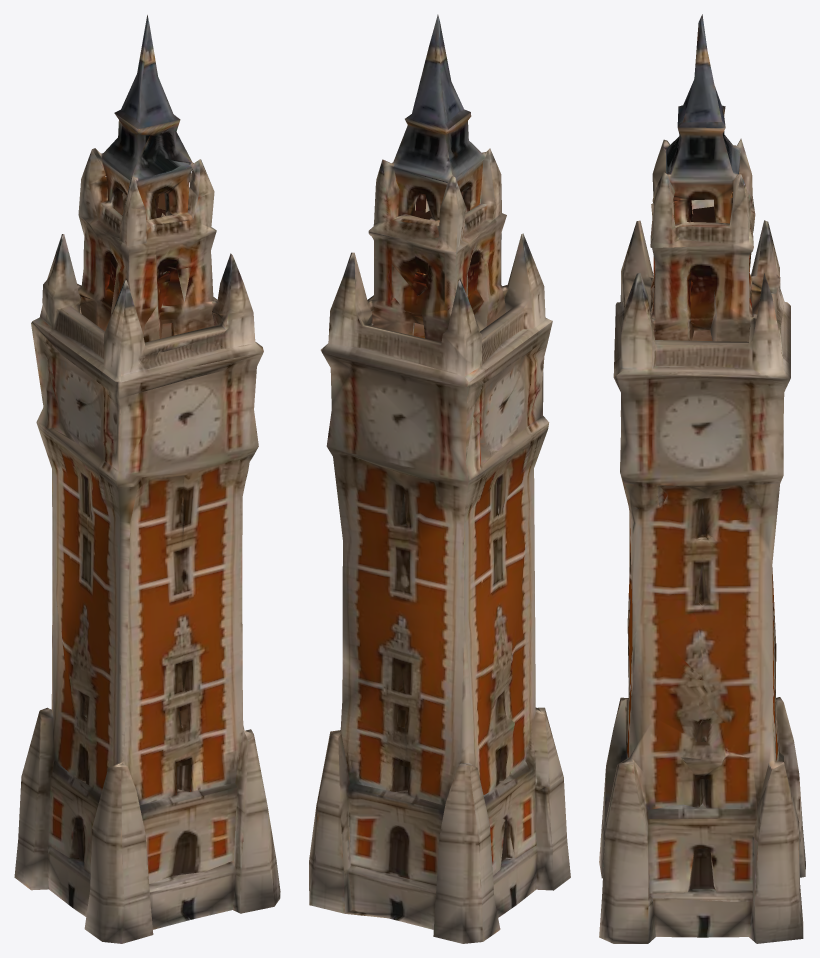
The model's file is lille-belfry.lod.glb.
3 views of the same model, side by side, from view 1: azimuth 30°, elevation 25°; view 2: azimuth 150°, elevation 25°; view 3: azimuth 270°, elevation 25° (orthographic).
Parts seen in each view (by area): view 1: textured_mesh.obj; view 2: textured_mesh.obj; view 3: textured_mesh.obj.
Boxes of the visible parts, bbox=[...] form: textured_mesh.obj: bbox=[14, 15, 280, 943]; textured_mesh.obj: bbox=[309, 14, 570, 943]; textured_mesh.obj: bbox=[599, 14, 805, 943].
Size of the model in its own units: 0.2136 by 0.9984 by 0.2112.
1 material, 1 textured.
